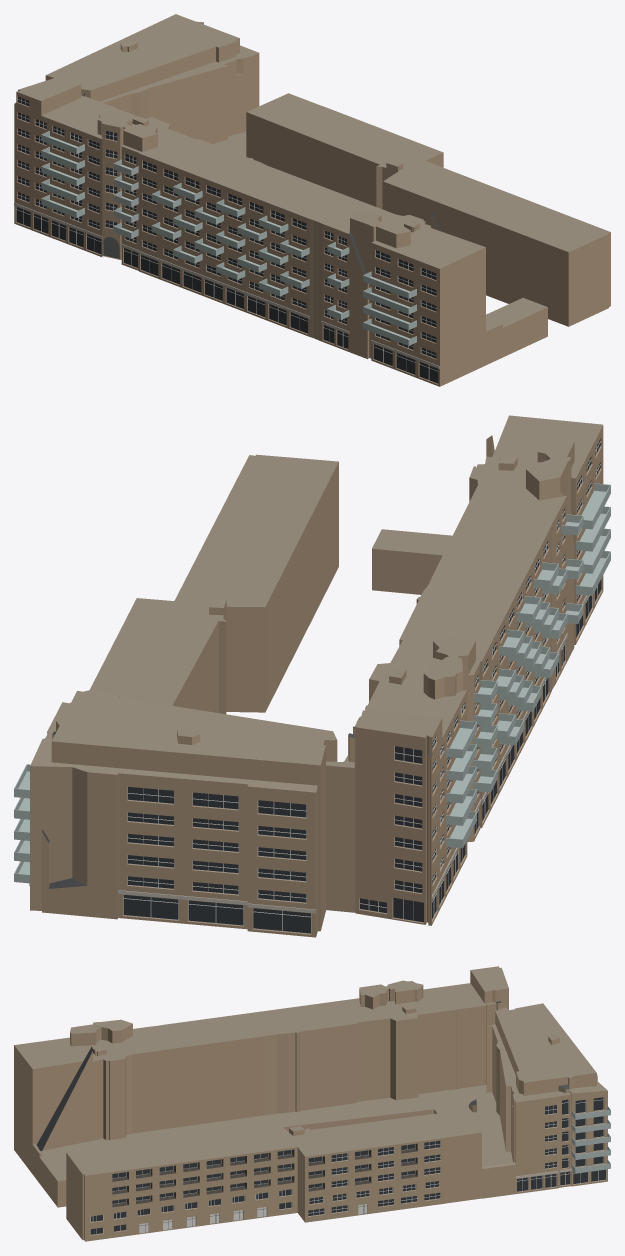
The model's file is recipe-large-hoofdweg-578-720-111255.glb.
The picture shows the model from 3 angles, top to bottom: view 1: azimuth 30°, elevation 25°; view 2: azimuth 150°, elevation 25°; view 3: azimuth 270°, elevation 25°; orthographic projection. The views are drawn at different scales.
Parts seen in each view (by area): view 1: hoofdweg-578-720-111255; view 2: hoofdweg-578-720-111255; view 3: hoofdweg-578-720-111255.
Boxes of the visible parts, bbox=[...] form: hoofdweg-578-720-111255: bbox=[14, 14, 610, 386]; hoofdweg-578-720-111255: bbox=[14, 415, 610, 937]; hoofdweg-578-720-111255: bbox=[14, 966, 610, 1241].
Size of the model in its own units: 76.9 by 27.1 by 123.
